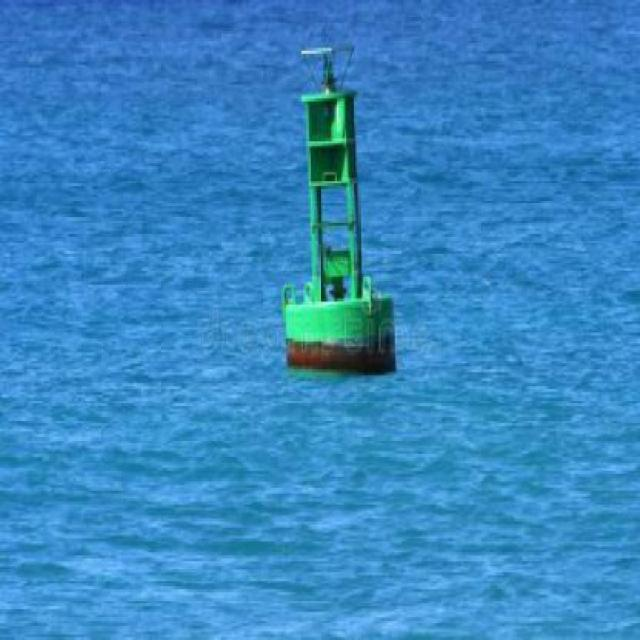buoy: (270, 24, 406, 381)
